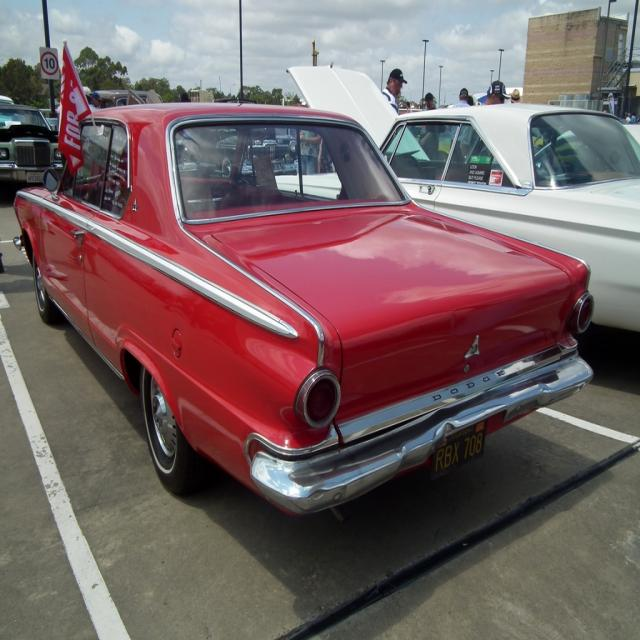car: (8, 98, 599, 532)
